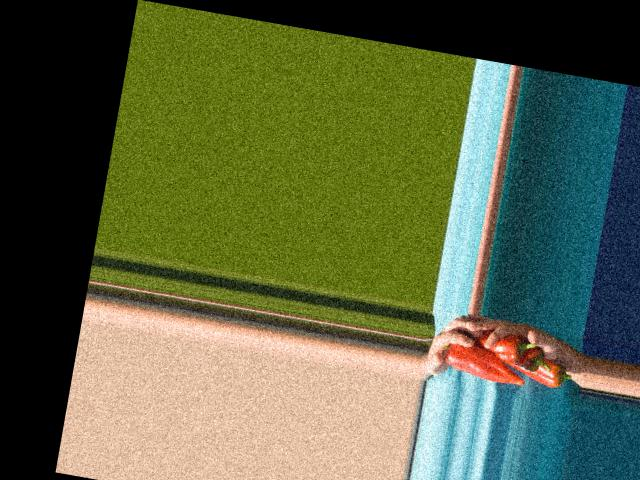bell_pepper: (517, 353, 574, 390)
